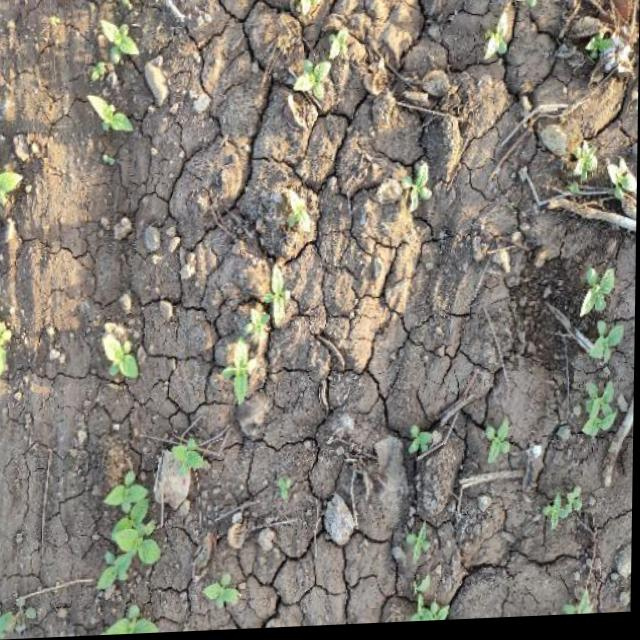crop: (214, 274, 299, 418), (571, 270, 628, 470), (89, 463, 165, 606), (81, 12, 143, 160), (284, 30, 362, 110), (93, 327, 151, 390), (398, 157, 437, 229), (394, 421, 445, 465), (403, 523, 438, 565)
